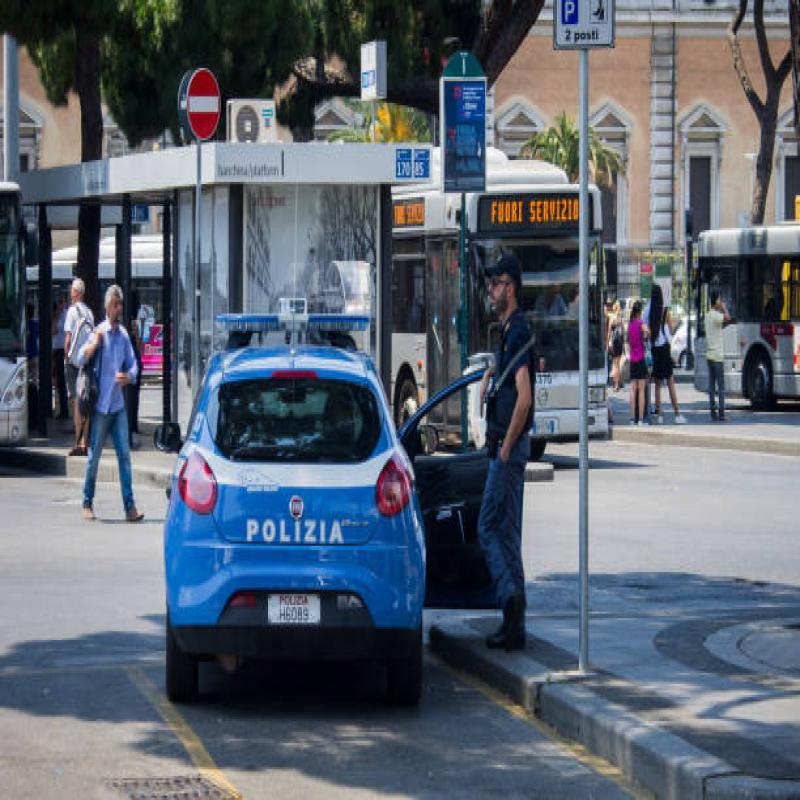AmbulanceSiren: (202, 287, 375, 355)
